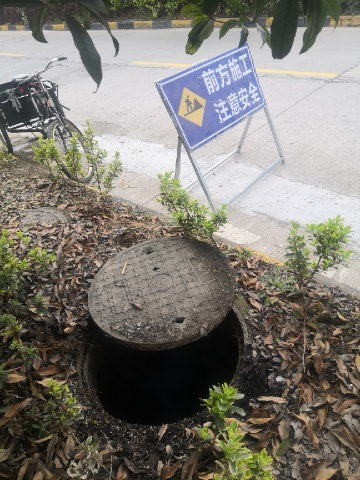uncovered: (79, 236, 246, 426)
